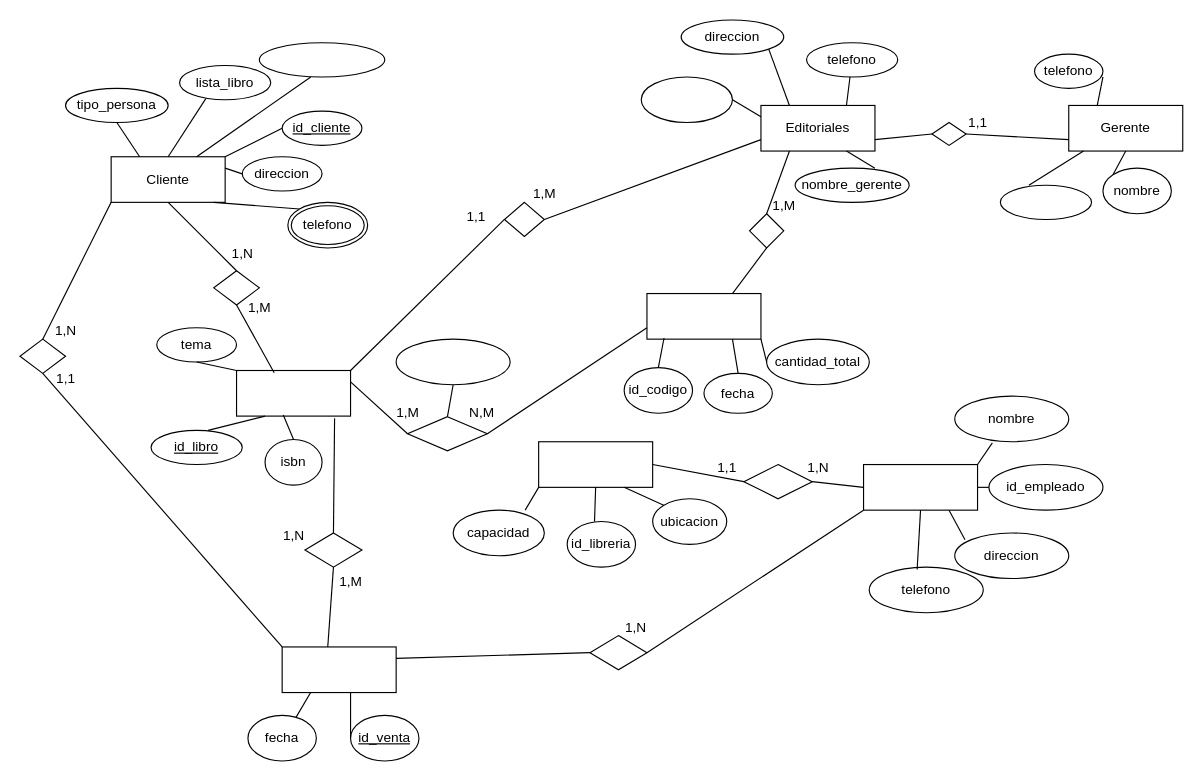
This 1203x781 diagram has some shape labels left out. The shapes that lost their labels are listed below. From the top down, each one's centre as x and y in pixels, then its label:
[321,59]: nombre_empresa
[686,99]: id_editoriales
[1045,201]: id_gerente
[703,315]: Compra
[452,361]: cantidad_libro
[293,392]: Libro
[595,464]: Libreria
[920,486]: Empleado
[338,669]: Venta
